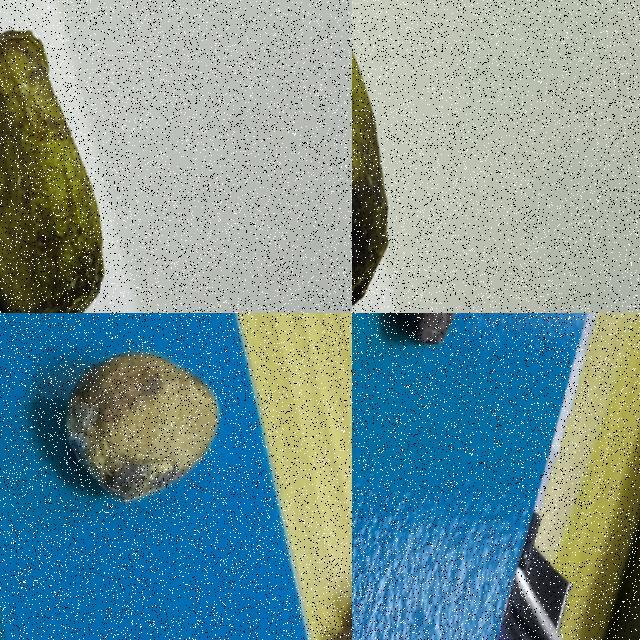Fine_cocoabeans: (0, 313, 289, 626), (0, 0, 192, 312), (352, 0, 494, 312)
Flat_cocoabeans: (352, 313, 564, 419)
